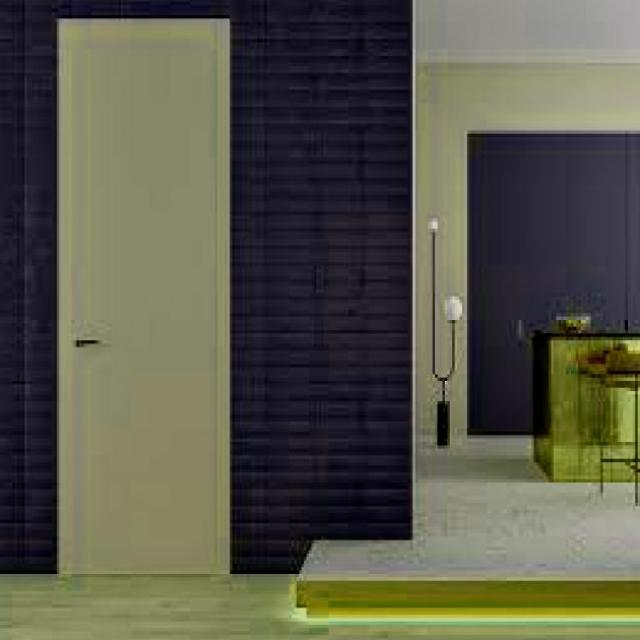Door: (56, 16, 230, 575)
